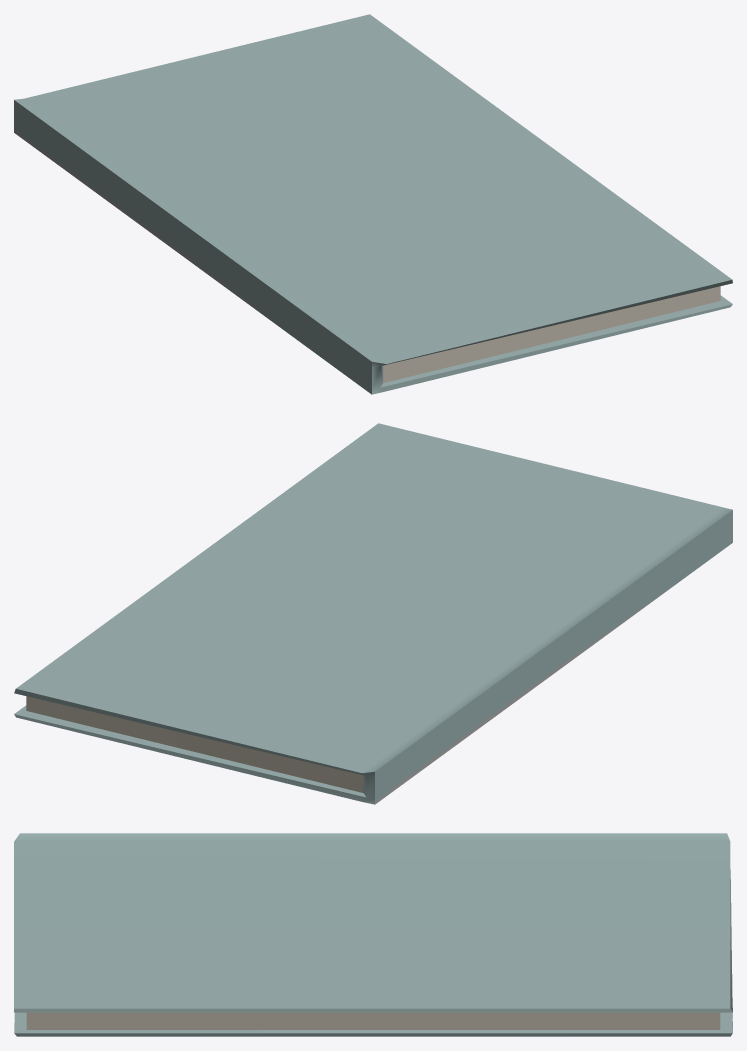
Rendered from Book_3.fbx.
3 views of the same model, one above another, from view 1: azimuth 30°, elevation 25°; view 2: azimuth 150°, elevation 25°; view 3: azimuth 270°, elevation 25° (orthographic).
Visible parts, largest first — view 1: pCube3; view 2: pCube3; view 3: pCube3.
Boxes of the visible parts, x1,y1,x2,y2 form: pCube3: (14,14,732,394); pCube3: (14,423,732,804); pCube3: (14,833,732,1036).
Bounding box in the file's own units: 0.9845 × 0.0866 × 1.73.
1 material, 1 textured.
